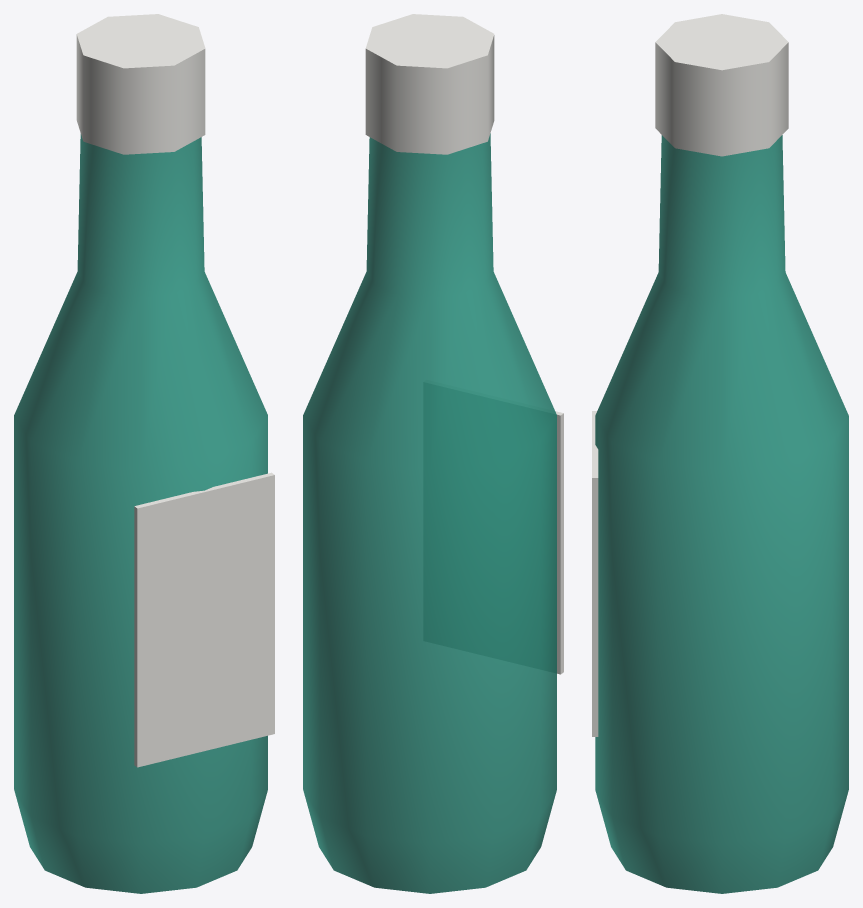
File: soda_bottle.glb
The picture shows the model from 3 angles, left to right: view 1: azimuth 30°, elevation 25°; view 2: azimuth 150°, elevation 25°; view 3: azimuth 270°, elevation 25°; orthographic projection.
Visible parts, largest first — view 1: root; view 2: root; view 3: root.
Part boxes in pixels (bbox=[...]): root: bbox=[14, 14, 274, 893]; root: bbox=[303, 14, 563, 893]; root: bbox=[592, 14, 848, 893].
Size of the model in its own units: 0.16 by 0.56 by 0.162.
